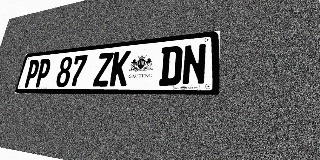7: (68, 55, 88, 87)
8: (55, 56, 74, 87)
D: (158, 45, 183, 86)
K: (109, 50, 131, 86)
N: (181, 43, 207, 85)
P: (34, 58, 52, 87), (23, 59, 41, 87)
Z: (92, 52, 114, 87)
